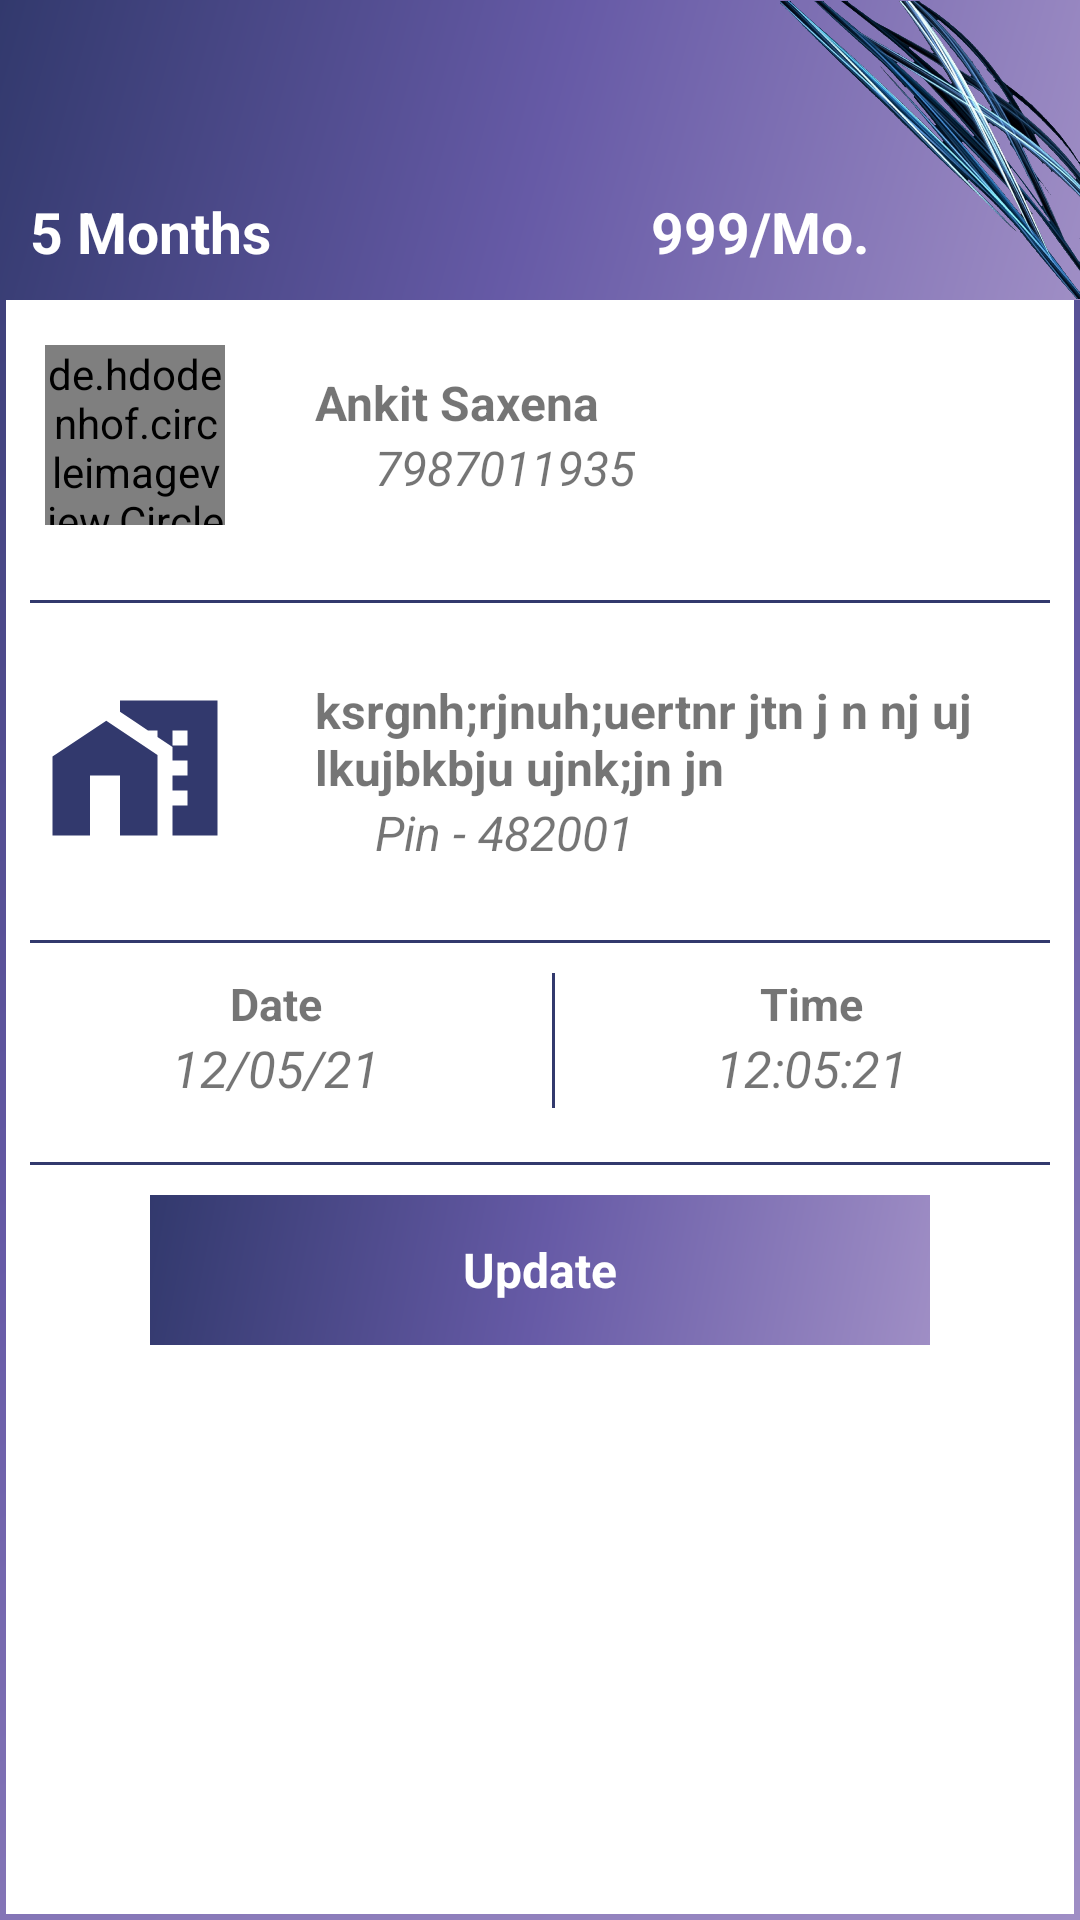

Locate icon controls on the screen. Image size 1080 x 1920, boxes as [x1=x1, y1=y1, x2=x2, y2=y2].
home work: [x1=52, y1=700, x2=218, y2=836]
